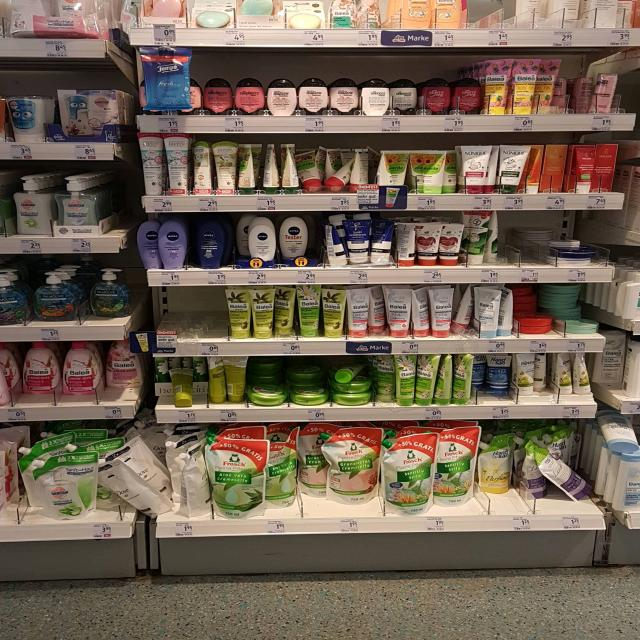unorganised: (95, 441, 212, 519), (237, 139, 371, 193), (20, 342, 99, 399), (525, 434, 583, 497), (417, 354, 471, 406), (266, 440, 301, 511), (479, 431, 516, 496), (348, 215, 394, 267), (206, 355, 251, 405), (597, 405, 640, 456), (410, 150, 458, 195), (102, 342, 143, 392), (468, 211, 505, 265), (554, 349, 594, 398), (277, 212, 308, 262), (543, 142, 568, 197), (275, 282, 298, 340), (203, 76, 236, 115), (190, 140, 214, 193), (486, 354, 514, 399), (538, 56, 559, 115), (549, 284, 585, 318), (171, 364, 198, 409), (453, 283, 475, 338), (325, 220, 349, 269), (425, 77, 455, 115), (135, 217, 157, 268), (366, 285, 387, 338), (454, 77, 483, 115), (525, 142, 547, 192), (412, 282, 430, 340), (390, 80, 421, 112), (397, 223, 418, 268), (499, 282, 515, 339), (334, 357, 364, 386), (532, 353, 551, 395), (378, 357, 396, 401), (374, 149, 392, 191), (513, 287, 538, 312), (554, 74, 571, 108), (472, 354, 487, 389)
